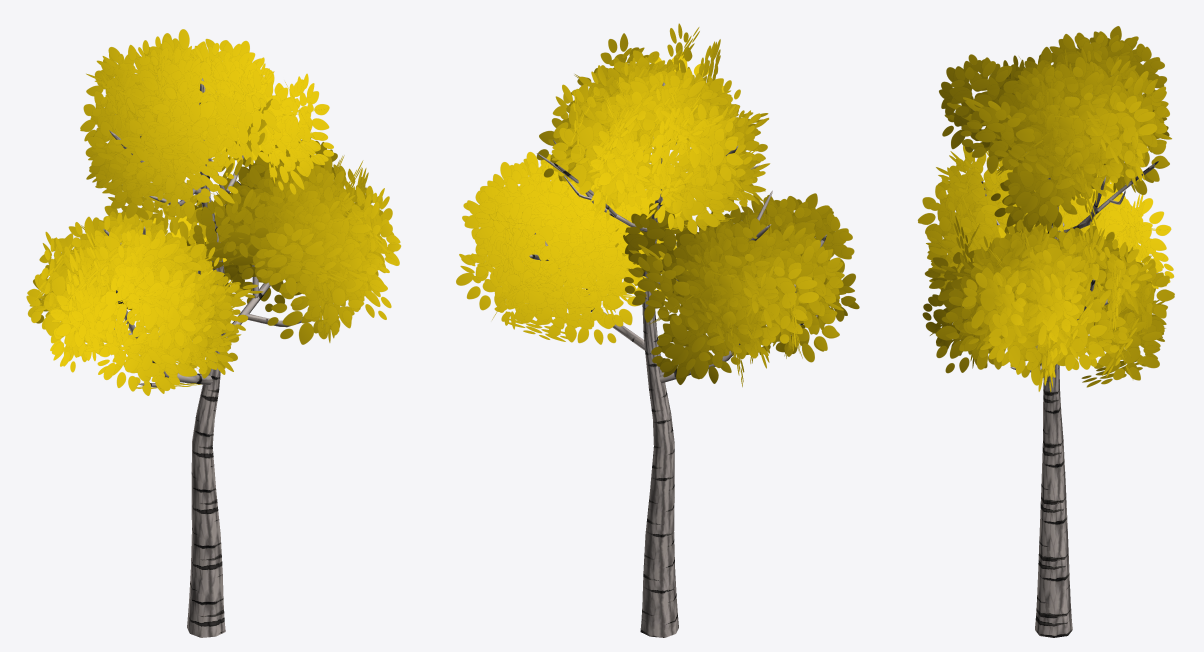
The model's file is quaternius-nature-birch-4.glb.
The picture shows the model from 3 angles, left to right: view 1: azimuth 30°, elevation 25°; view 2: azimuth 150°, elevation 25°; view 3: azimuth 270°, elevation 25°; orthographic projection.
Parts seen in each view (by area): view 1: BirchTree_4; view 2: BirchTree_4; view 3: BirchTree_4.
Part boxes in pixels (bbox=[...]): BirchTree_4: bbox=[26, 29, 401, 637]; BirchTree_4: bbox=[456, 23, 859, 637]; BirchTree_4: bbox=[917, 26, 1174, 637].
Bounding box in the file's own units: 2.78 × 4.21 × 1.84.
Materials: 2 (2 with a texture image).
